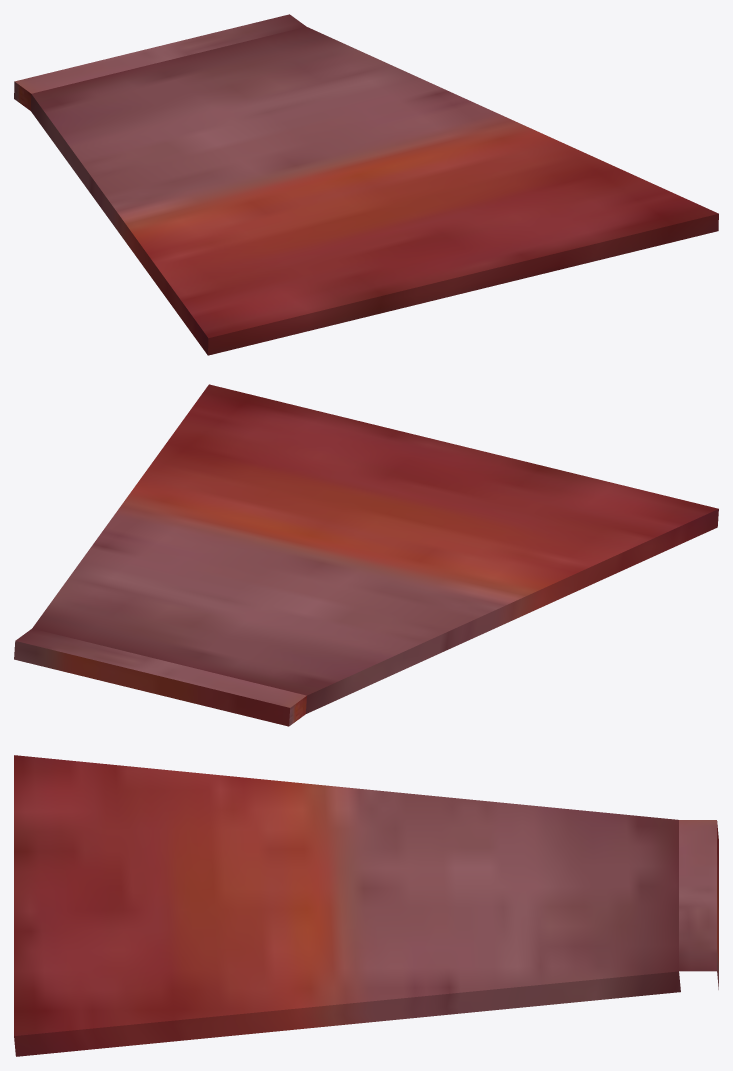
Rendered from NIEUFORMOWANY_METEORYT.glb.
3 views of the same model, one above another, from view 1: azimuth 30°, elevation 25°; view 2: azimuth 150°, elevation 25°; view 3: azimuth 270°, elevation 25° (orthographic). The views are drawn at different scales.
Parts seen in each view (by area): view 1: NIEUFORMOWANY_METEORYT; view 2: NIEUFORMOWANY_METEORYT; view 3: NIEUFORMOWANY_METEORYT.
Part boxes in pixels (x1=…): NIEUFORMOWANY_METEORYT: x1=14, y1=14, x2=718, y2=355; NIEUFORMOWANY_METEORYT: x1=14, y1=384, x2=718, y2=726; NIEUFORMOWANY_METEORYT: x1=14, y1=755, x2=718, y2=1056.
Bounding box in the file's own units: 0.2454 × 0.00833 × 0.26.
1 material, 1 textured.
